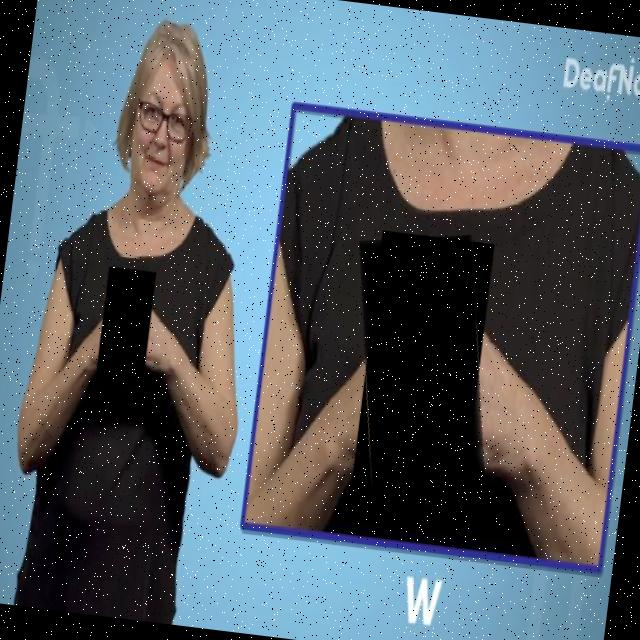W: (340, 228, 506, 508), (96, 267, 157, 386)
